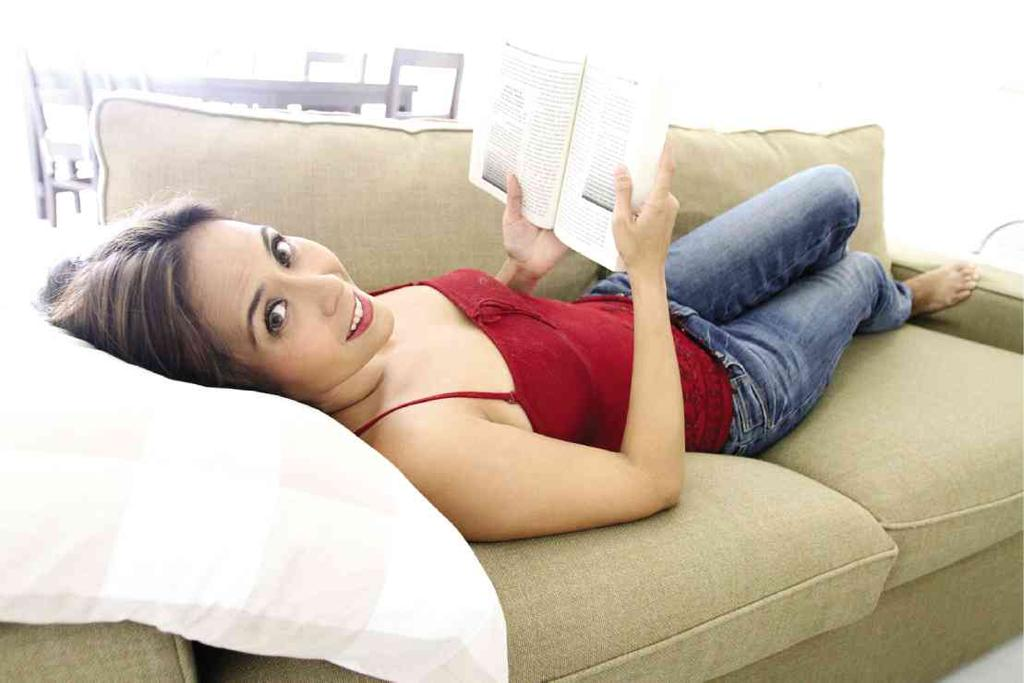face: (186, 216, 396, 384)
